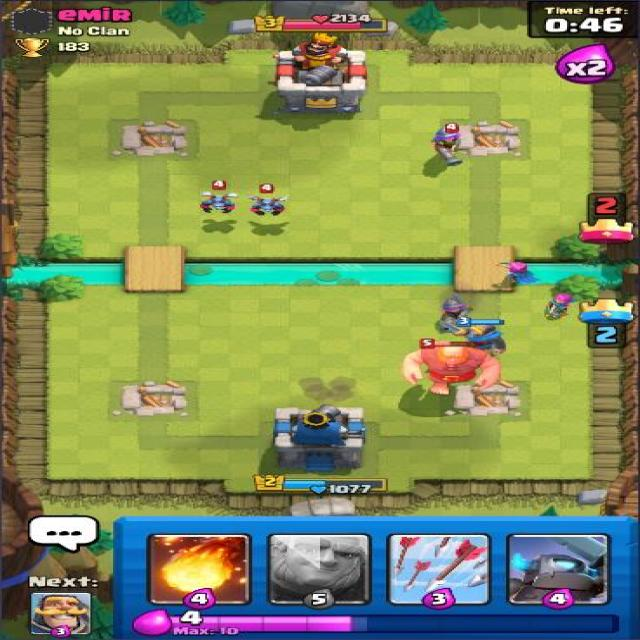Enemy-Giant: (393, 337, 508, 398)
Enemy-Minion: (243, 181, 296, 221), (195, 178, 245, 219)
Enemy-Musketeer: (430, 121, 473, 169)
Player-Knight: (456, 315, 513, 362)
Player-Musketeer: (435, 297, 478, 335)
